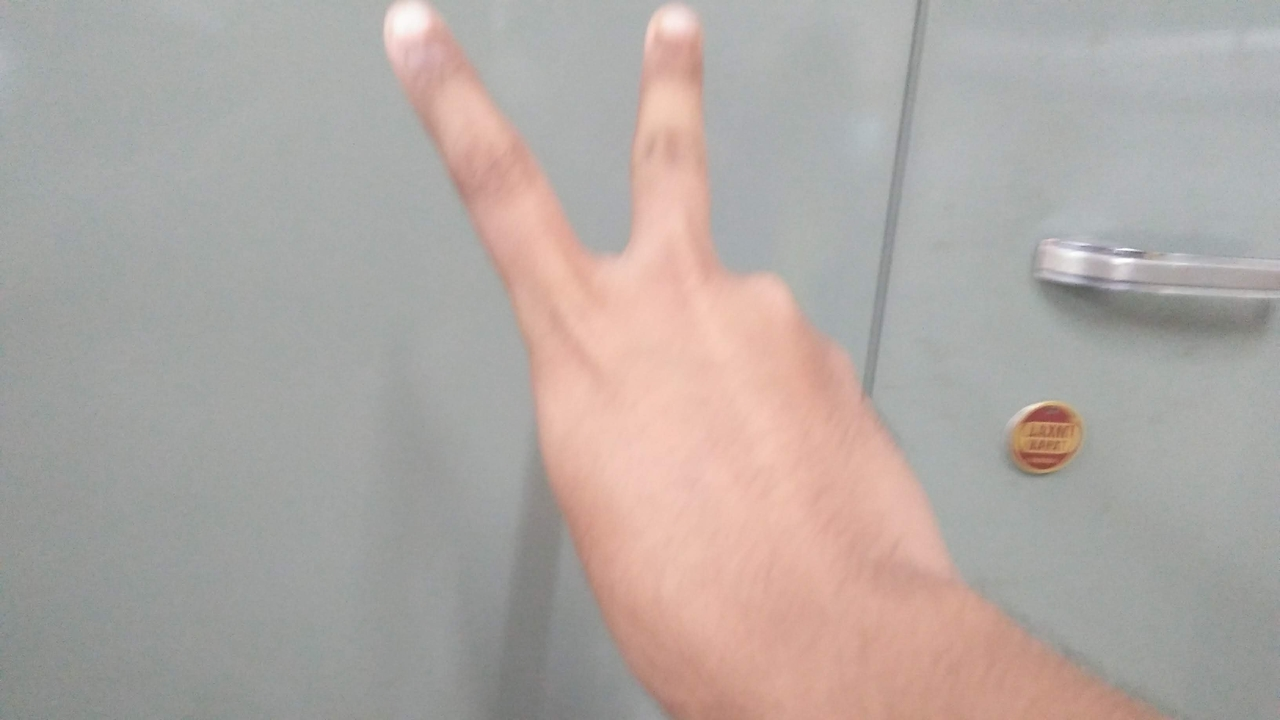fingertip: (638, 0, 704, 58), (374, 0, 440, 56)
